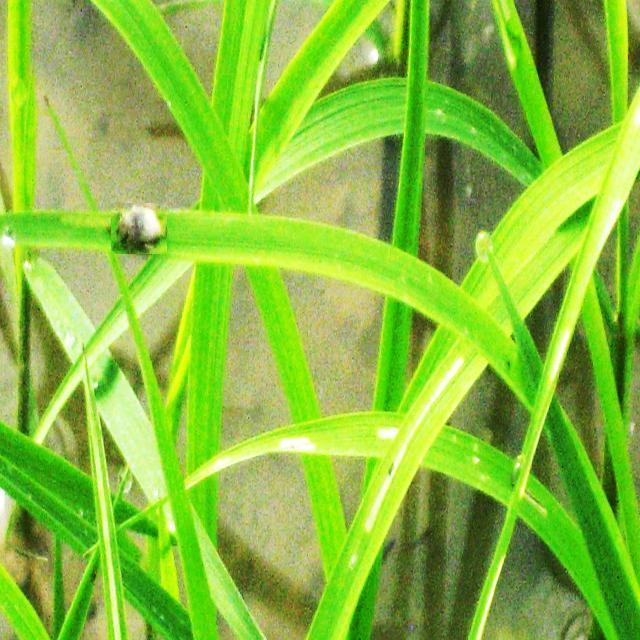rice-bug: (111, 203, 167, 254)
